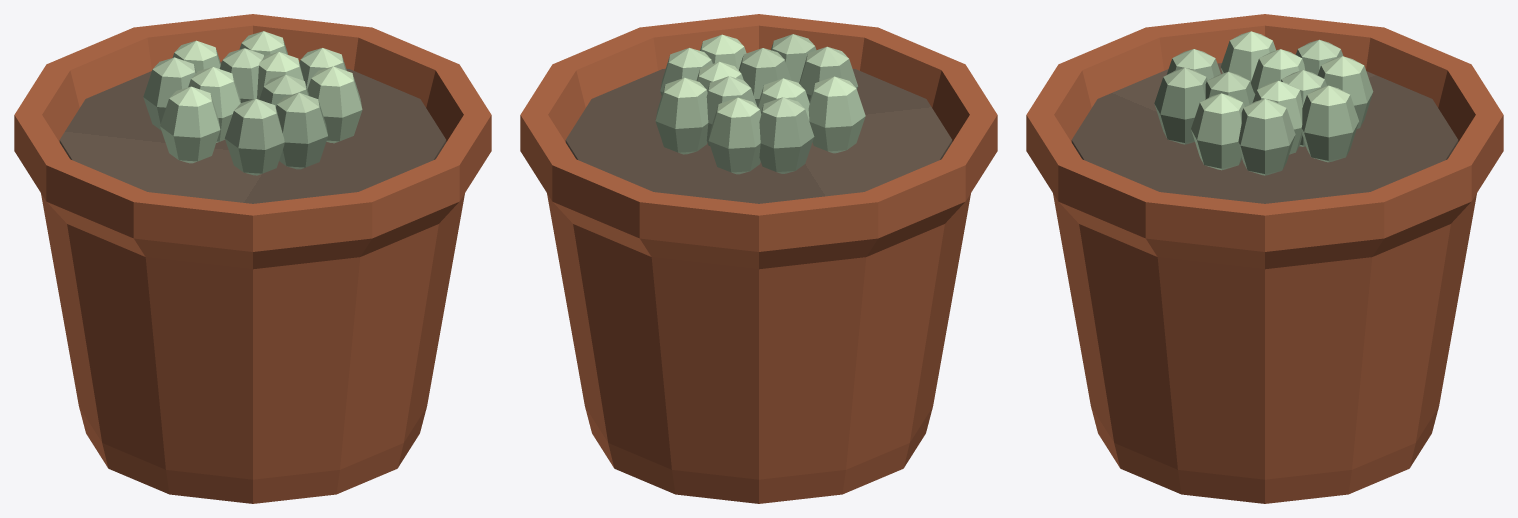
Rendered from new-cooperi.glb.
The picture shows the model from 3 angles, left to right: view 1: azimuth 30°, elevation 25°; view 2: azimuth 150°, elevation 25°; view 3: azimuth 270°, elevation 25°; orthographic projection.
Parts seen in each view (by area): view 1: new-cooperi/review-terra-vessel, new-cooperi/review-rooted-soil, new-cooperi/inflated-fleshy-window-leaf-005, new-cooperi/inflated-fleshy-window-leaf-008, new-cooperi/inflated-fleshy-window-leaf-003, new-cooperi/inflated-fleshy-window-leaf-006, new-cooperi/inflated-fleshy-window-leaf-002, new-cooperi/inflated-fleshy-window-leaf-010, new-cooperi/inflated-fleshy-window-leaf-012, new-cooperi/inflated-fleshy-window-leaf-009, new-cooperi/inflated-fleshy-window-leaf-007, new-cooperi/inflated-fleshy-window-leaf-001 (+2 smaller); view 2: new-cooperi/review-terra-vessel, new-cooperi/review-rooted-soil, new-cooperi/inflated-fleshy-window-leaf-005, new-cooperi/inflated-fleshy-window-leaf-002, new-cooperi/inflated-fleshy-window-leaf-004, new-cooperi/inflated-fleshy-window-leaf-007, new-cooperi/inflated-fleshy-window-leaf-008, new-cooperi/inflated-fleshy-window-leaf-011, new-cooperi/inflated-fleshy-window-leaf-012, new-cooperi/inflated-fleshy-window-leaf-001, new-cooperi/inflated-fleshy-window-leaf-003, new-cooperi/inflated-fleshy-window-leaf-006 (+2 smaller); view 3: new-cooperi/review-terra-vessel, new-cooperi/review-rooted-soil, new-cooperi/inflated-fleshy-window-leaf-004, new-cooperi/inflated-fleshy-window-leaf-001, new-cooperi/inflated-fleshy-window-leaf-006, new-cooperi/inflated-fleshy-window-leaf-003, new-cooperi/inflated-fleshy-window-leaf-007, new-cooperi/inflated-fleshy-window-leaf-005, new-cooperi/inflated-fleshy-window-leaf-009, new-cooperi/inflated-fleshy-window-leaf-010, new-cooperi/inflated-fleshy-window-leaf-011, new-cooperi/inflated-fleshy-window-leaf-008 (+2 smaller).
Part boxes in pixels (x1=…): new-cooperi/review-terra-vessel: x1=14, y1=14, x2=491, y2=503; new-cooperi/review-rooted-soil: x1=59, y1=61, x2=446, y2=203; new-cooperi/inflated-fleshy-window-leaf-005: x1=160, y1=86, x2=220, y2=163; new-cooperi/inflated-fleshy-window-leaf-008: x1=224, y1=99, x2=284, y2=175; new-cooperi/inflated-fleshy-window-leaf-003: x1=276, y1=92, x2=327, y2=169; new-cooperi/inflated-fleshy-window-leaf-006: x1=307, y1=66, x2=362, y2=143; new-cooperi/inflated-fleshy-window-leaf-002: x1=143, y1=57, x2=196, y2=130; new-cooperi/inflated-fleshy-window-leaf-010: x1=188, y1=67, x2=240, y2=142; new-cooperi/inflated-fleshy-window-leaf-012: x1=219, y1=48, x2=263, y2=102; new-cooperi/inflated-fleshy-window-leaf-009: x1=257, y1=52, x2=303, y2=99; new-cooperi/inflated-fleshy-window-leaf-007: x1=172, y1=40, x2=220, y2=72; new-cooperi/inflated-fleshy-window-leaf-001: x1=299, y1=48, x2=346, y2=88; new-cooperi/review-terra-vessel: x1=520, y1=14, x2=997, y2=503; new-cooperi/review-rooted-soil: x1=565, y1=68, x2=952, y2=203; new-cooperi/inflated-fleshy-window-leaf-005: x1=808, y1=76, x2=865, y2=153; new-cooperi/inflated-fleshy-window-leaf-002: x1=759, y1=97, x2=814, y2=173; new-cooperi/inflated-fleshy-window-leaf-004: x1=655, y1=77, x2=708, y2=154; new-cooperi/inflated-fleshy-window-leaf-007: x1=708, y1=97, x2=761, y2=174; new-cooperi/inflated-fleshy-window-leaf-008: x1=799, y1=46, x2=858, y2=101; new-cooperi/inflated-fleshy-window-leaf-011: x1=739, y1=48, x2=791, y2=105; new-cooperi/inflated-fleshy-window-leaf-012: x1=706, y1=76, x2=757, y2=145; new-cooperi/inflated-fleshy-window-leaf-001: x1=660, y1=48, x2=712, y2=95; new-cooperi/inflated-fleshy-window-leaf-003: x1=771, y1=34, x2=816, y2=82; new-cooperi/inflated-fleshy-window-leaf-006: x1=700, y1=34, x2=746, y2=70; new-cooperi/review-terra-vessel: x1=1026, y1=14, x2=1503, y2=503; new-cooperi/review-rooted-soil: x1=1071, y1=63, x2=1458, y2=203; new-cooperi/inflated-fleshy-window-leaf-004: x1=1301, y1=85, x2=1358, y2=162; new-cooperi/inflated-fleshy-window-leaf-001: x1=1238, y1=99, x2=1295, y2=175; new-cooperi/inflated-fleshy-window-leaf-006: x1=1191, y1=93, x2=1244, y2=170; new-cooperi/inflated-fleshy-window-leaf-003: x1=1154, y1=67, x2=1207, y2=144; new-cooperi/inflated-fleshy-window-leaf-007: x1=1317, y1=56, x2=1373, y2=128; new-cooperi/inflated-fleshy-window-leaf-005: x1=1221, y1=31, x2=1275, y2=82; new-cooperi/inflated-fleshy-window-leaf-009: x1=1252, y1=81, x2=1302, y2=154; new-cooperi/inflated-fleshy-window-leaf-010: x1=1251, y1=49, x2=1305, y2=94; new-cooperi/inflated-fleshy-window-leaf-011: x1=1205, y1=72, x2=1254, y2=106; new-cooperi/inflated-fleshy-window-leaf-008: x1=1166, y1=49, x2=1220, y2=79.
Size of the model in its own units: 0.19 by 0.162 by 0.19.
4 materials, 4 textured.
